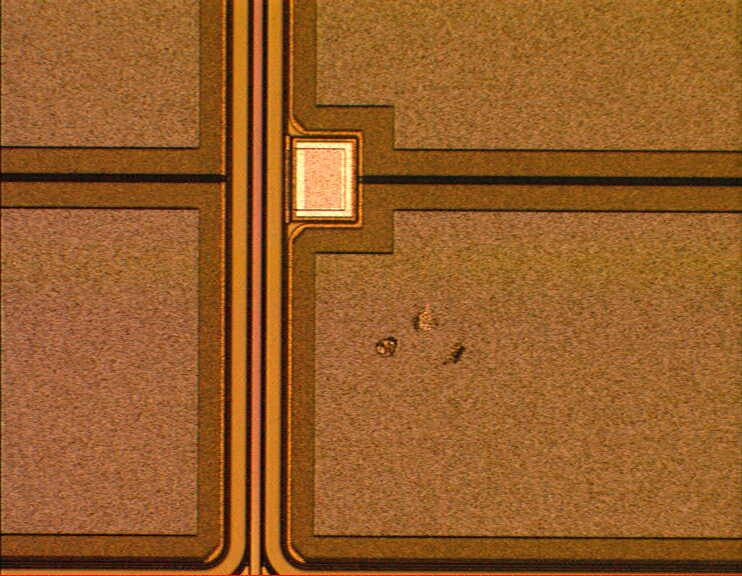SCRATCH: (365, 298, 477, 370)
